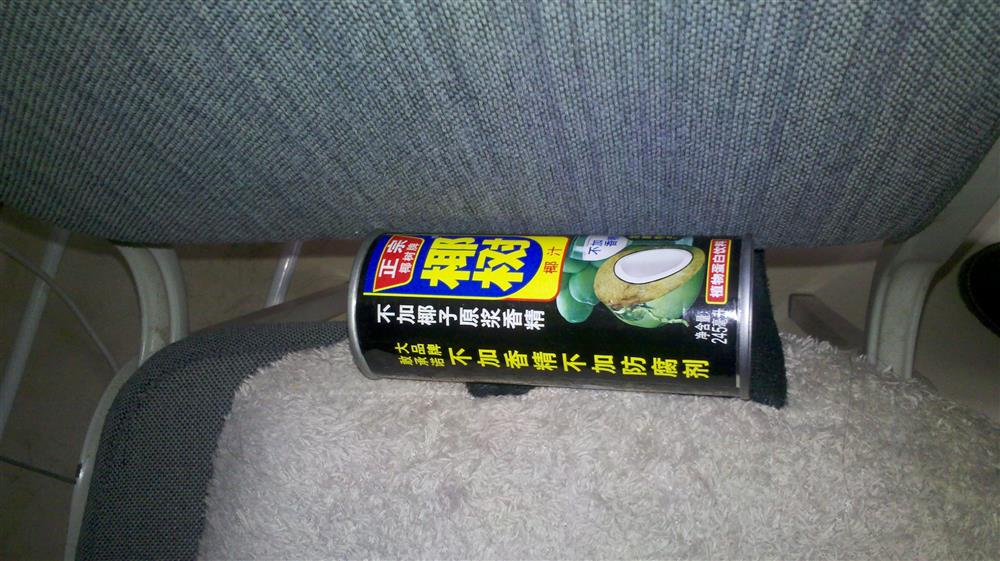coconut_juice: (343, 229, 754, 401)
